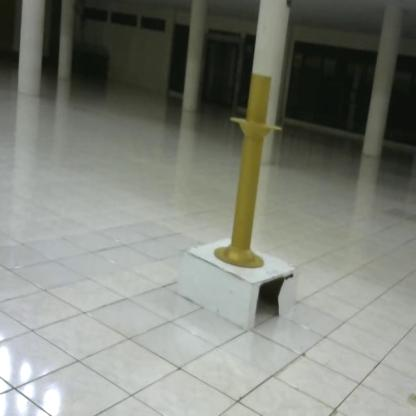pole: (212, 61, 290, 278)
